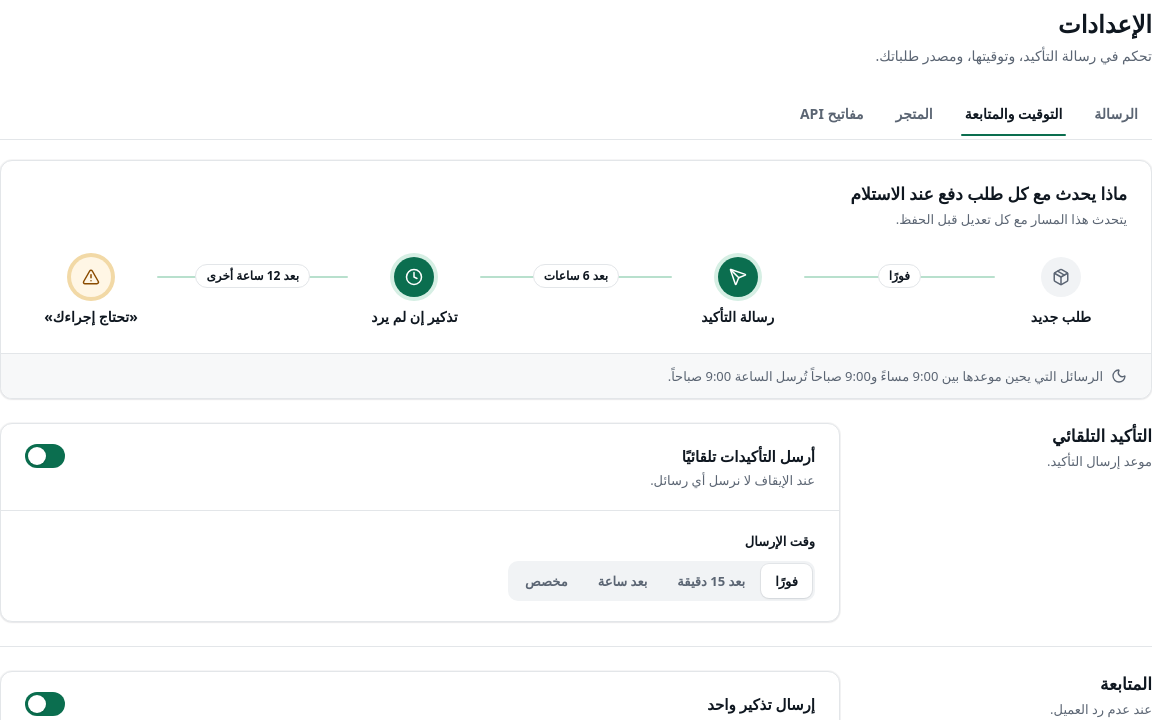
Scenario: standalone Timing tab › hides the send time and turns later steps off without auto-confirmation
Check: the heading "ماذا يحدث مع كل طلب دفع عند الاستلام" is shown, box [850, 182, 1127, 205]
Click the switch named "أرسل التأكيدات تلقائيًا" in the row of "أرسل التأكيدات تلقائيًا". click: point(45, 456)
box: [25, 444, 65, 468]
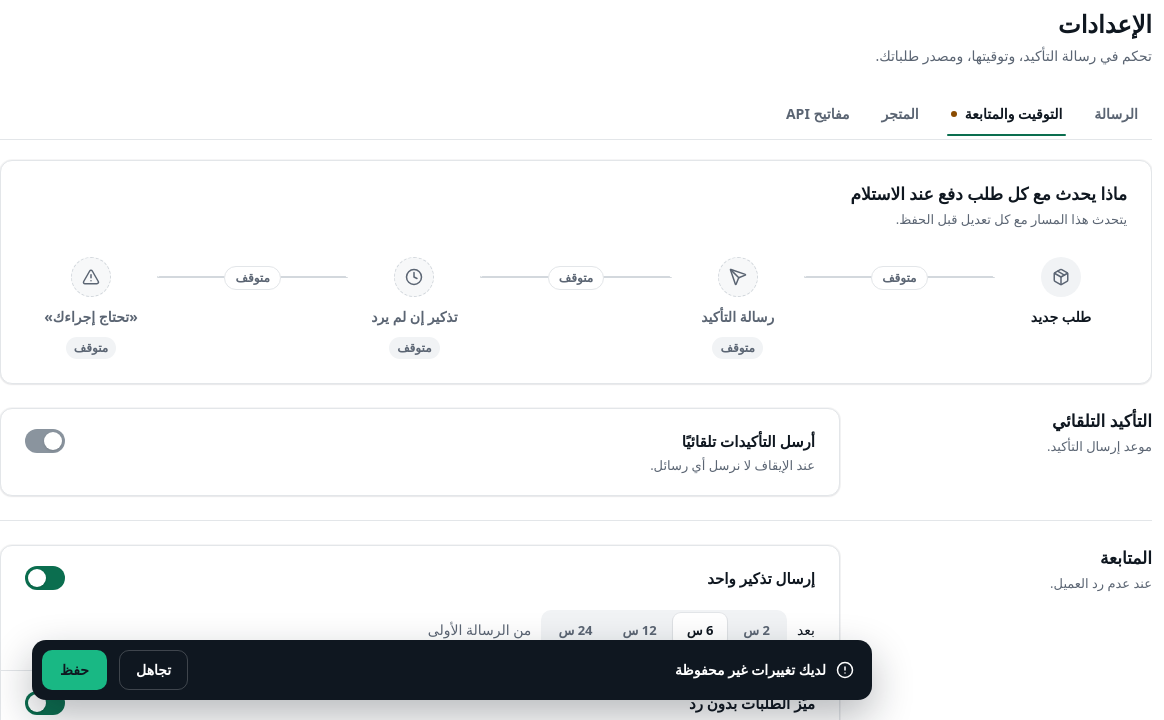
Check: the text "وقت الإرسال" is gone
Check: the 3rd text "متوقف" is shown, box [871, 266, 928, 290]
Check: the 2nd text "متوقف" is shown, box [548, 266, 604, 290]
